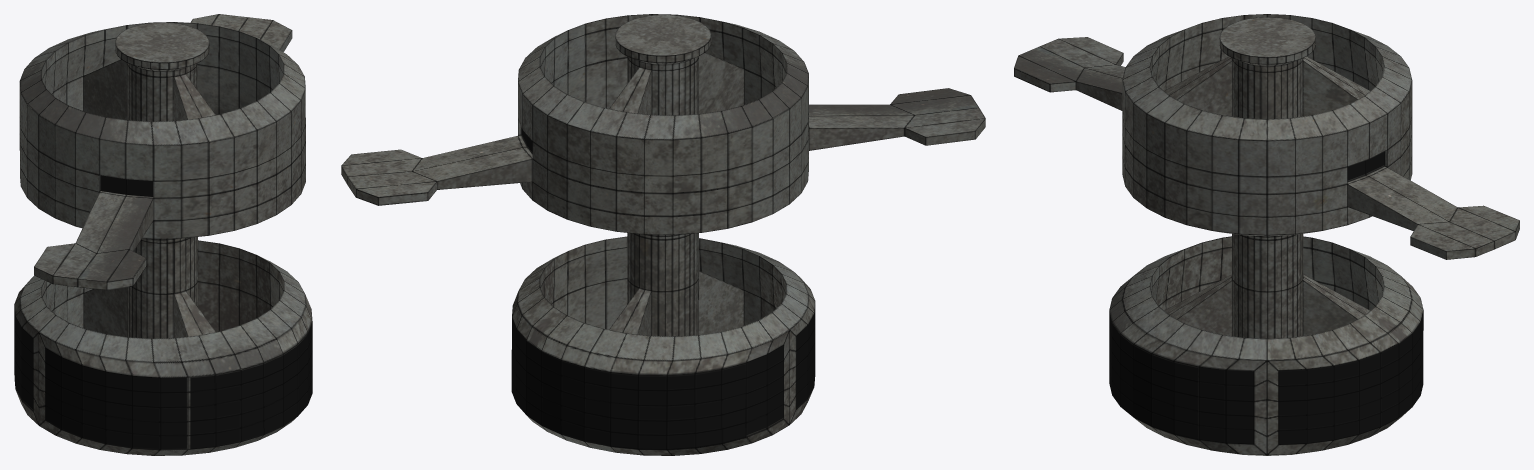
File: SpaceStationAlpha-b.obj
3 views of the same model, side by side, from view 1: azimuth 30°, elevation 25°; view 2: azimuth 150°, elevation 25°; view 3: azimuth 270°, elevation 25° (orthographic).
Parts seen in each view (by area): view 1: Cylinder; view 2: Cylinder; view 3: Cylinder.
Boxes of the visible parts, x1=… form: Cylinder: x1=14, y1=14, x2=312, y2=455; Cylinder: x1=341, y1=14, x2=985, y2=455; Cylinder: x1=1014, y1=14, x2=1519, y2=455.
Size of the model in its own units: 14.26 by 11.32 by 14.19.
